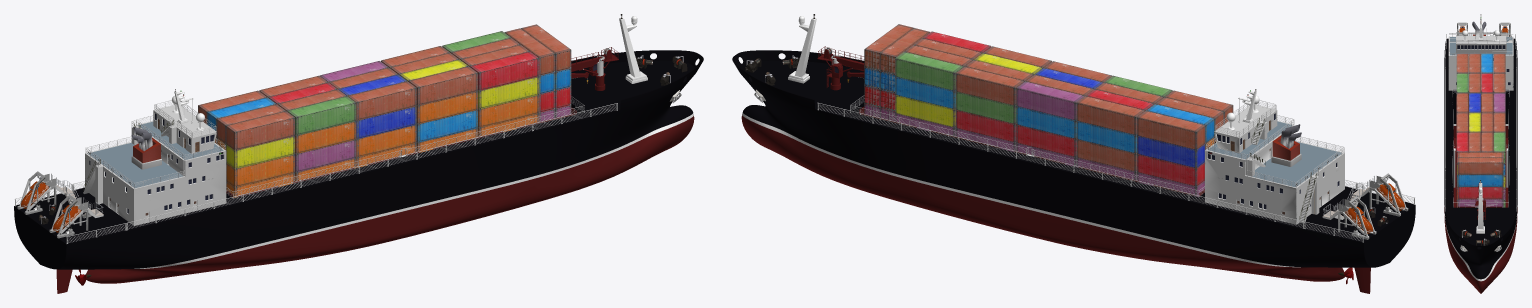
File: cargo-ship.glb
The picture shows the model from 3 angles, left to right: view 1: azimuth 30°, elevation 25°; view 2: azimuth 150°, elevation 25°; view 3: azimuth 270°, elevation 25°; orthographic projection. The views are drawn at different scales.
Visible parts, largest first — view 1: Object_79, Object_59, Object_2, Object_82, Object_16, Object_75, Object_25, Object_3, Object_34, Object_13, Object_9, Object_11 (+11 smaller); view 2: Object_79, Object_59, Object_2, Object_16, Object_3, Object_11, Object_34, Object_9, Object_75, Object_13, Object_89, Object_30 (+11 smaller); view 3: Object_79, Object_2, Object_16, Object_59, Object_3, Object_34, Object_11, Object_9, Object_89, Object_22, Object_75, Object_25 (+14 smaller).
Boxes of the visible parts, bbox=[...] form: Object_79: bbox=[14, 50, 703, 269]; Object_59: bbox=[86, 50, 694, 283]; Object_2: bbox=[198, 24, 571, 150]; Object_82: bbox=[215, 91, 539, 197]; Object_16: bbox=[85, 105, 226, 225]; Object_75: bbox=[15, 103, 617, 243]; Object_25: bbox=[226, 59, 539, 168]; Object_3: bbox=[268, 51, 571, 112]; Object_34: bbox=[207, 68, 571, 142]; Object_13: bbox=[87, 121, 223, 187]; Object_9: bbox=[287, 31, 510, 135]; Object_11: bbox=[295, 61, 571, 172]; Object_79: bbox=[732, 50, 1415, 267]; Object_59: bbox=[741, 50, 1344, 281]; Object_2: bbox=[864, 24, 1233, 171]; Object_16: bbox=[1205, 105, 1344, 224]; Object_3: bbox=[864, 31, 1204, 186]; Object_11: bbox=[864, 81, 1204, 196]; Object_34: bbox=[864, 67, 1214, 153]; Object_9: bbox=[895, 51, 1172, 123]; Object_75: bbox=[817, 102, 1414, 242]; Object_13: bbox=[1208, 121, 1341, 187]; Object_89: bbox=[742, 16, 1402, 267]; Object_30: bbox=[1035, 68, 1205, 168]; Object_79: bbox=[1444, 38, 1517, 279]; Object_2: bbox=[1456, 53, 1505, 174]; Object_16: bbox=[1448, 34, 1513, 90]; Object_59: bbox=[1444, 97, 1517, 293]; Object_3: bbox=[1456, 73, 1503, 199]; Object_34: bbox=[1457, 53, 1505, 186]; Object_11: bbox=[1457, 93, 1505, 207]; Object_9: bbox=[1456, 73, 1505, 207]; Object_89: bbox=[1444, 30, 1517, 281]; Object_22: bbox=[1449, 31, 1513, 55]; Object_75: bbox=[1445, 34, 1516, 216]; Object_25: bbox=[1456, 112, 1505, 188].
Bounding box in the file's own units: 131 × 34.49 × 19.
63 materials, 54 textured.
